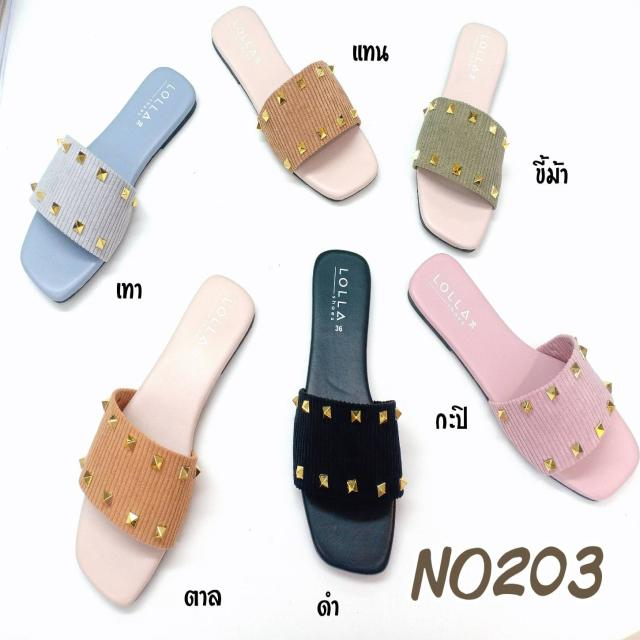black: (287, 248, 427, 576)
grey: (9, 46, 202, 297)
kapi: (393, 251, 640, 515)
keema: (407, 2, 534, 261)
tan: (62, 261, 270, 622), (180, 0, 400, 213)
